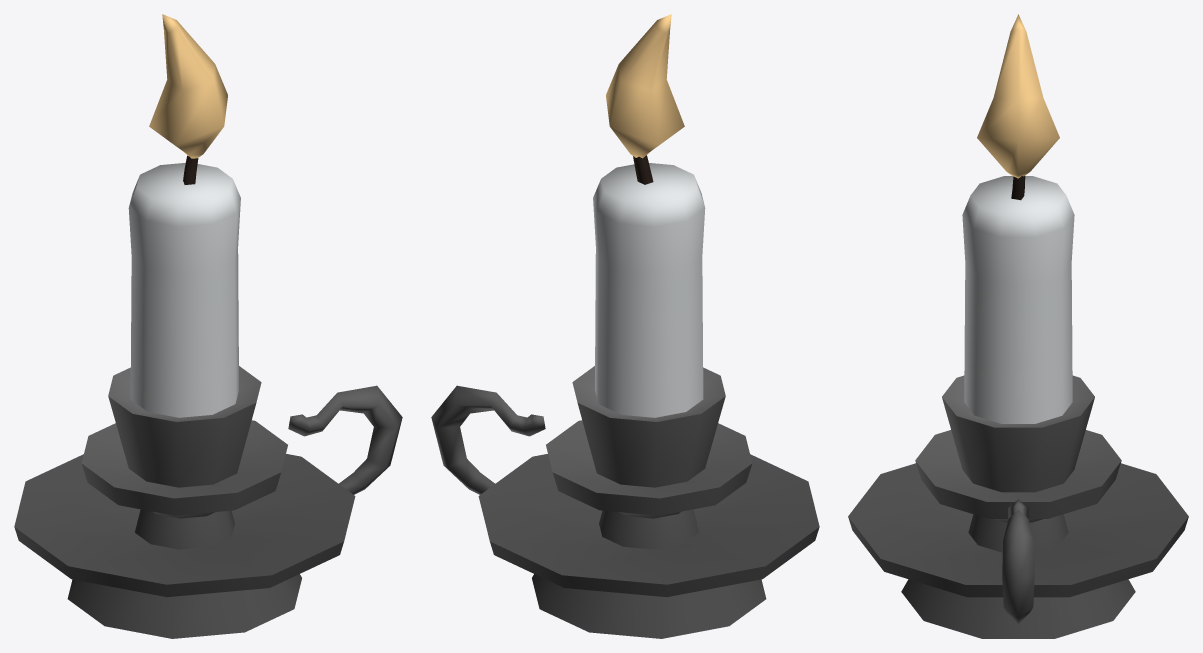
File: CandelStick_B.fbx
3 views of the same model, side by side, from view 1: azimuth 30°, elevation 25°; view 2: azimuth 150°, elevation 25°; view 3: azimuth 270°, elevation 25° (orthographic). The views are drawn at different scales.
Visible parts, largest first — view 1: CandelStick_B; view 2: CandelStick_B; view 3: CandelStick_B.
Boxes of the visible parts, x1,y1,x2,y2 form: CandelStick_B: (14,14,402,638); CandelStick_B: (431,14,819,638); CandelStick_B: (848,14,1188,638).
Bounding box in the file's own units: 30.72 × 47.11 × 25.67.
